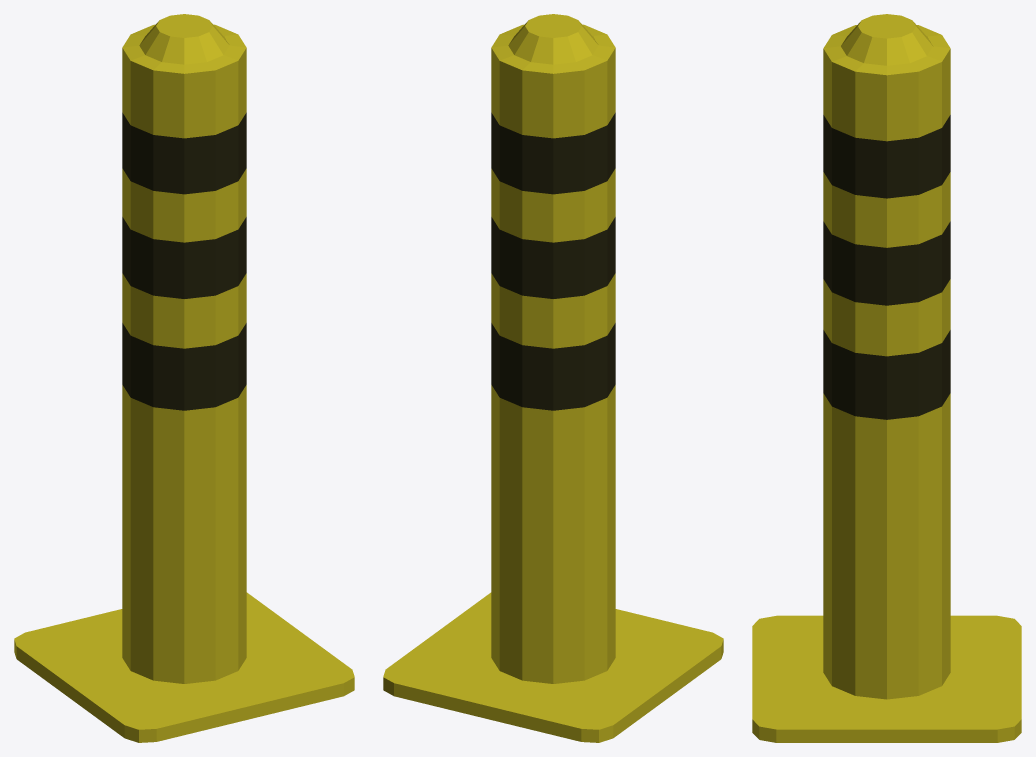
File: Poste.fbx
The picture shows the model from 3 angles, left to right: view 1: azimuth 30°, elevation 25°; view 2: azimuth 150°, elevation 25°; view 3: azimuth 270°, elevation 25°; orthographic projection. The views are drawn at different scales.
Visible parts, largest first — view 1: Cylinder; view 2: Cylinder; view 3: Cylinder.
Boxes of the visible parts, box(x1,y1,x2,y2) form: Cylinder: box(14, 14, 354, 742); Cylinder: box(383, 14, 723, 742); Cylinder: box(752, 14, 1021, 742).
Bounding box in the file's own units: 35.26 × 95.37 × 35.26.
